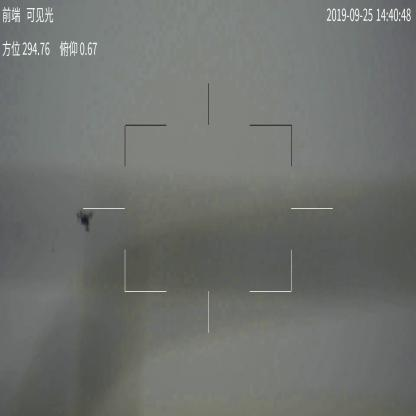uav: (76, 208, 95, 232)
